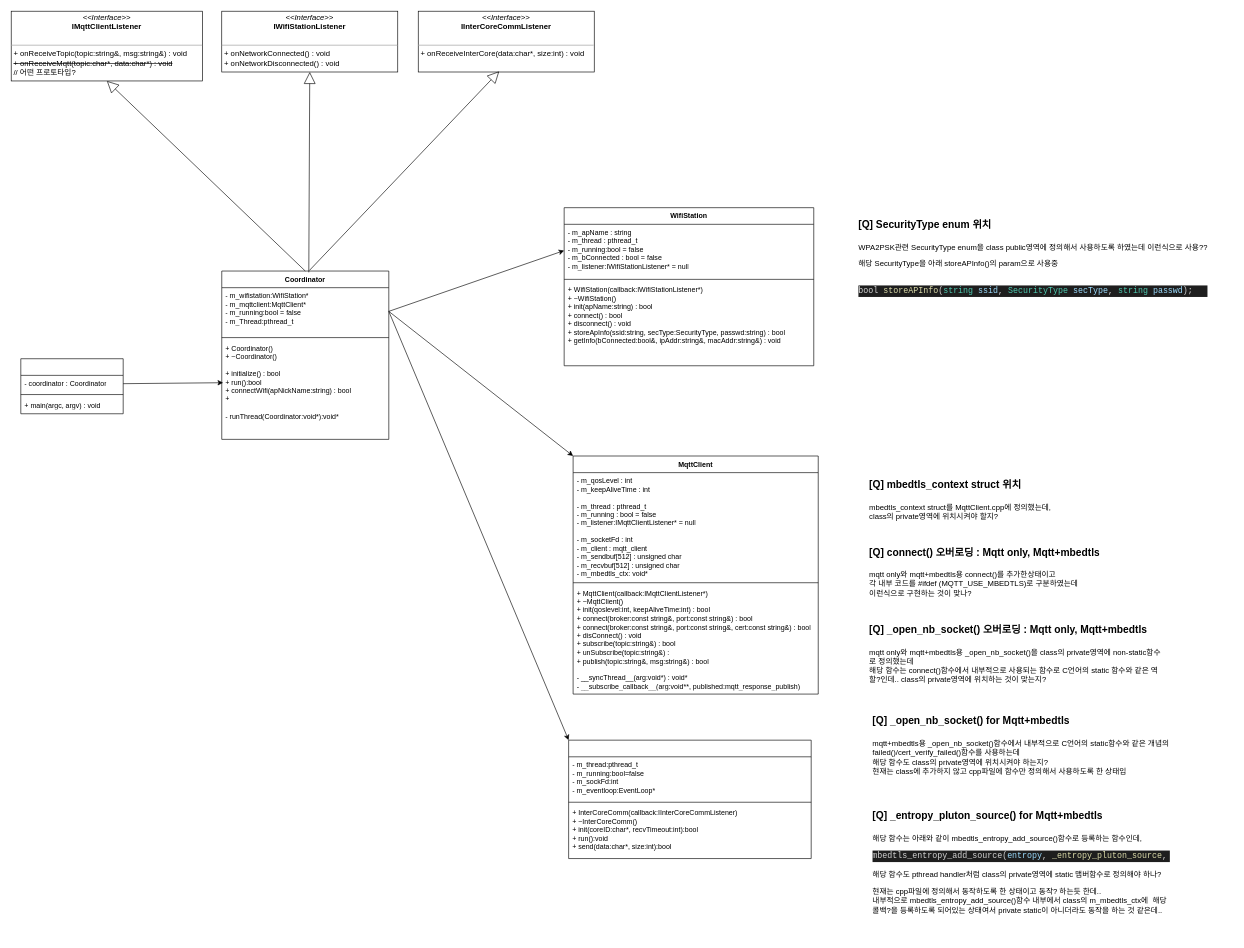
Image size: 1244x948. Some labels were removed from this diagram. The box of each missing label's shape, as (x1, y1, x2, y2) in pixels:
InterCoreCommunicator: (568, 740, 811, 859)
main.cpp: (20, 358, 123, 414)
